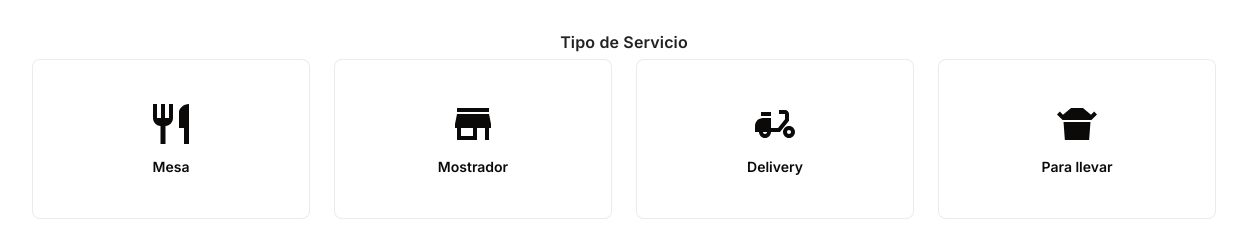
Test: POS Routes › selecting DELIVERY navigates to /pos/new/customer
Click the button "Delivery": [775, 139] box [637,60,913,218]
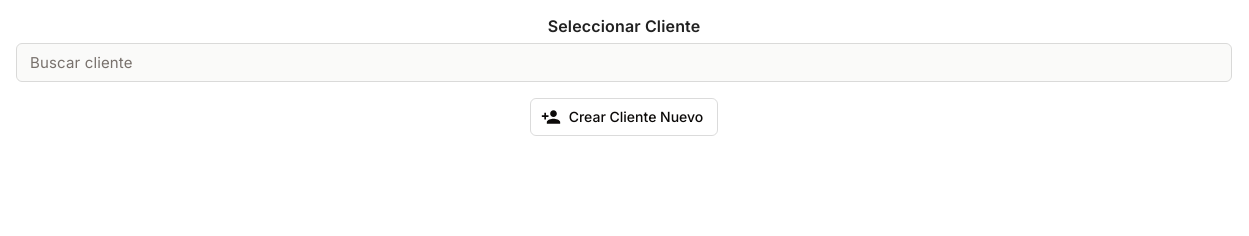
Now the heading "Seleccionar Cliente" is shown, box [548,16,700,36]
